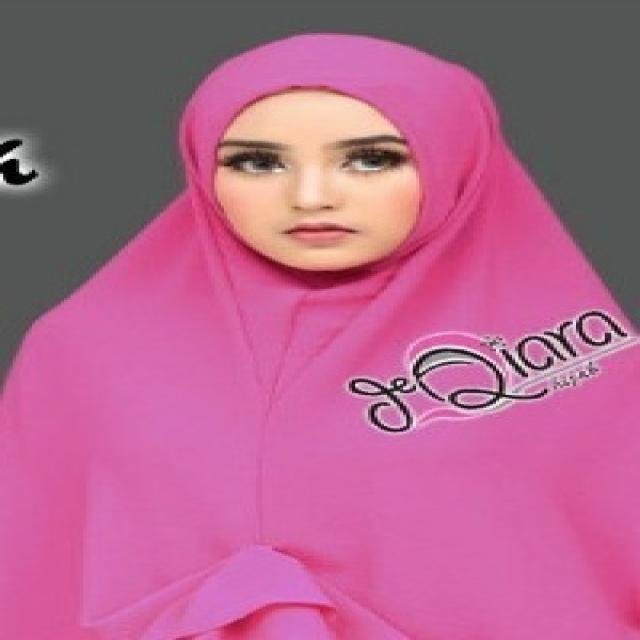head: (179, 24, 501, 281)
